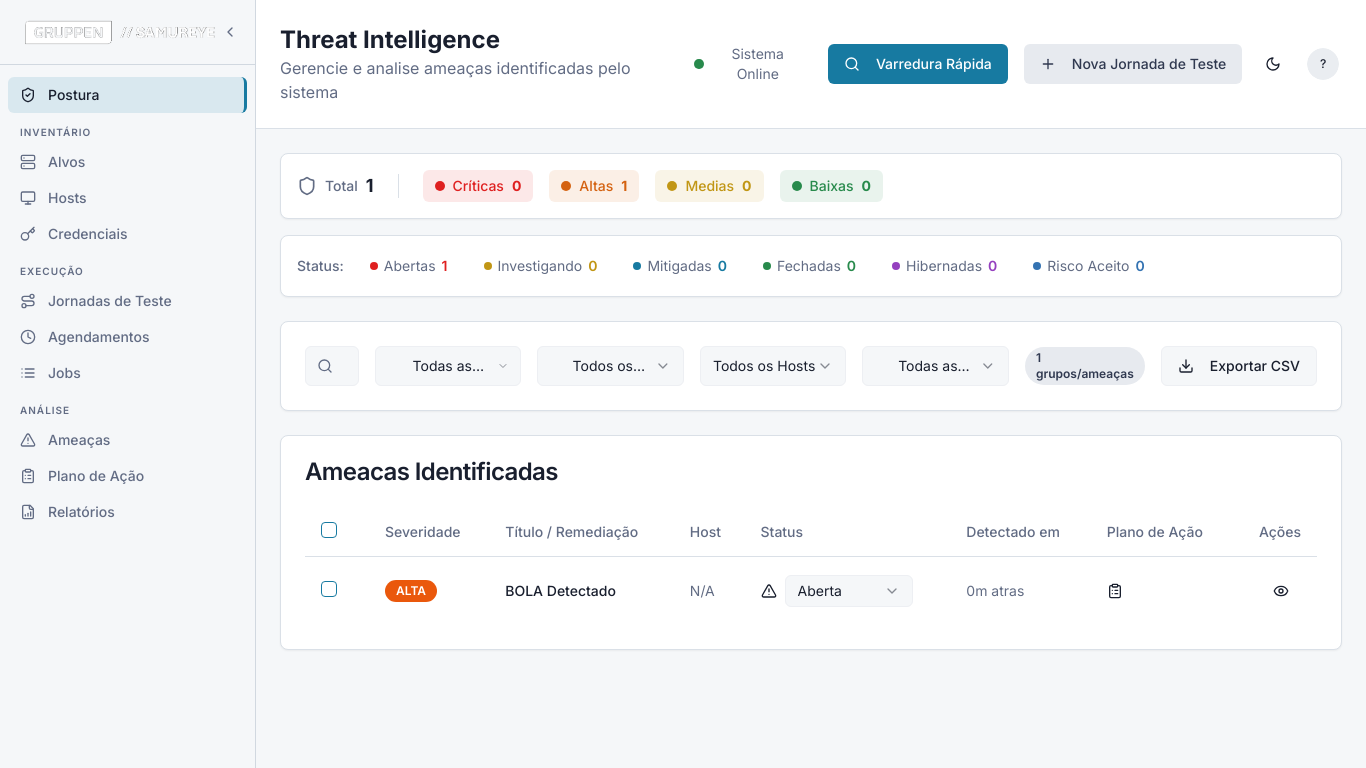
UI-04 — Curl Reproduction Dialog › Dialog renders fallback message when buildCurlCommand returns null
Click the dropdown with test id "select-source-filter". click: x=936, y=366
box: [862, 346, 1009, 386]
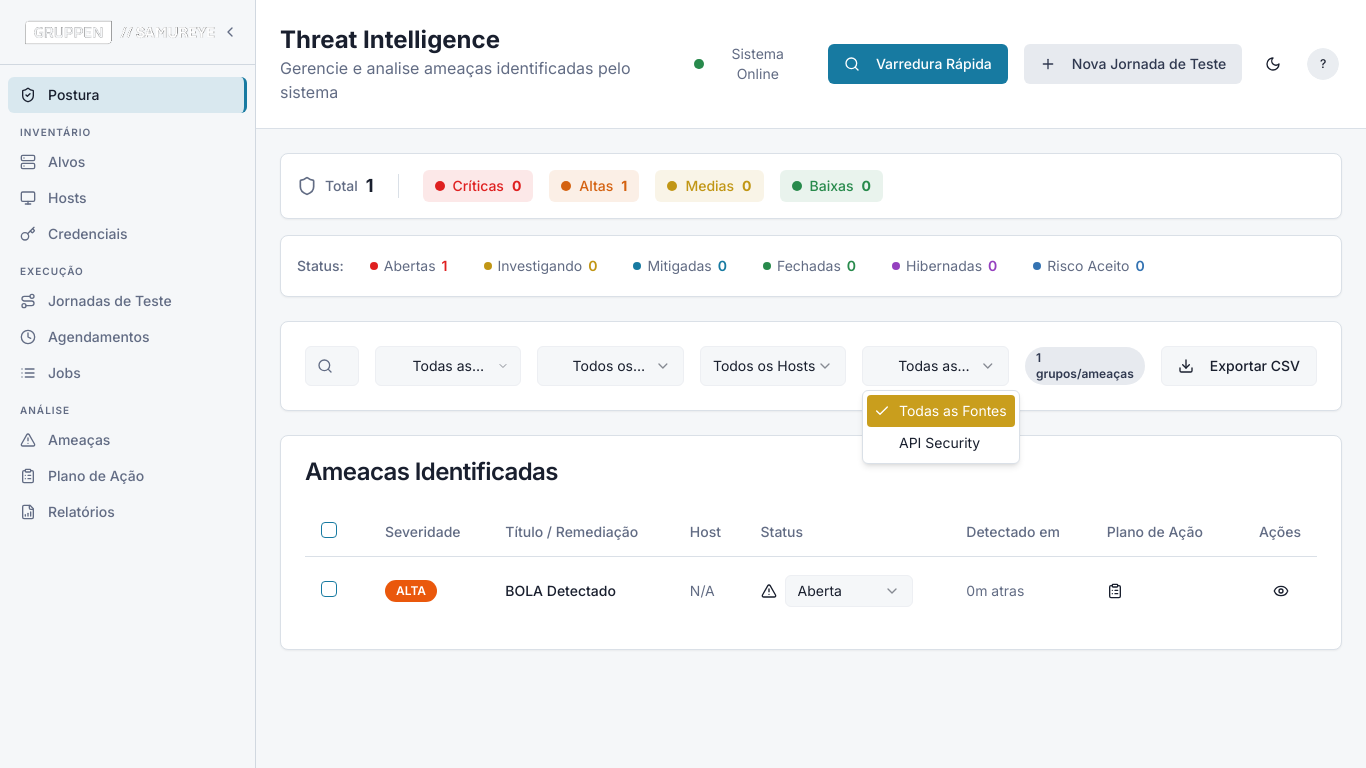
Click the option "API Security". click: x=940, y=442
box: [899, 434, 980, 451]
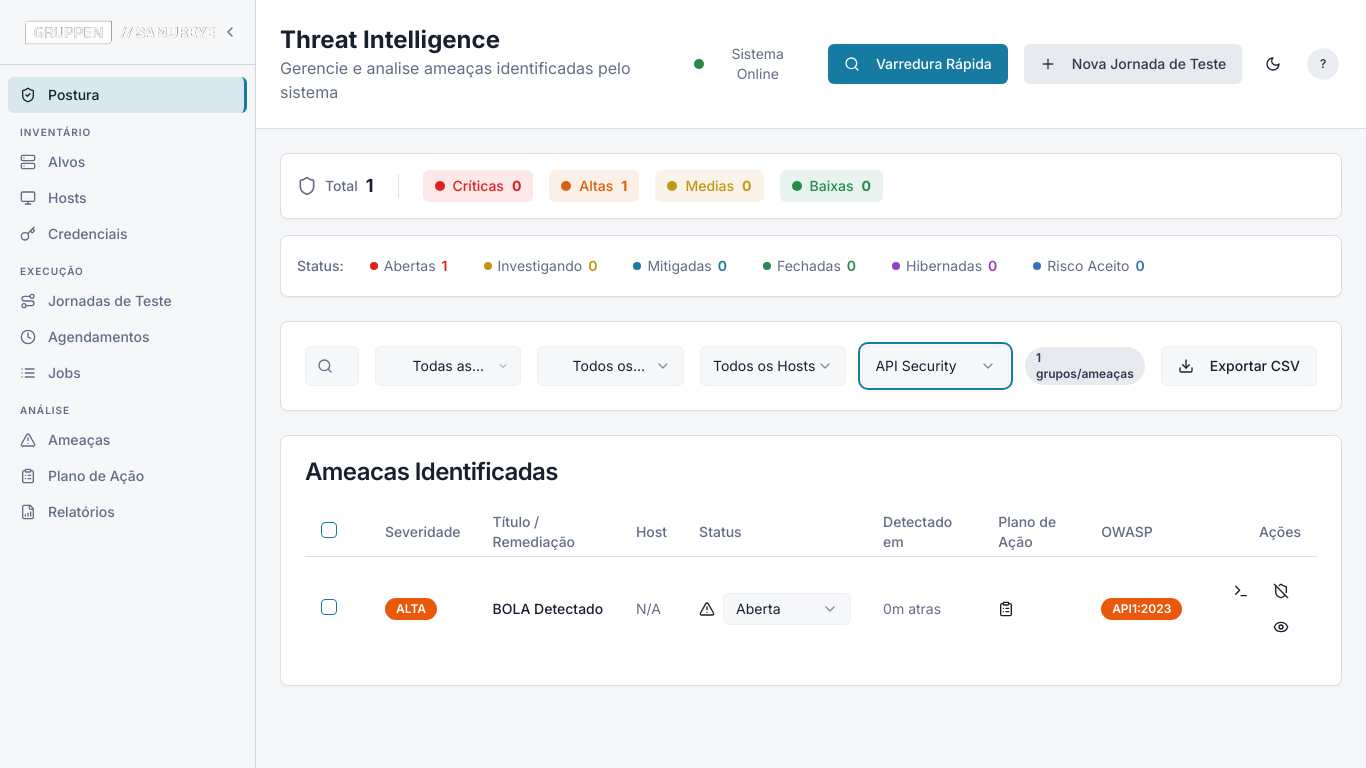
Click the button with test id "button-reproduce-t1". click: x=1241, y=590
box: [1221, 572, 1261, 608]
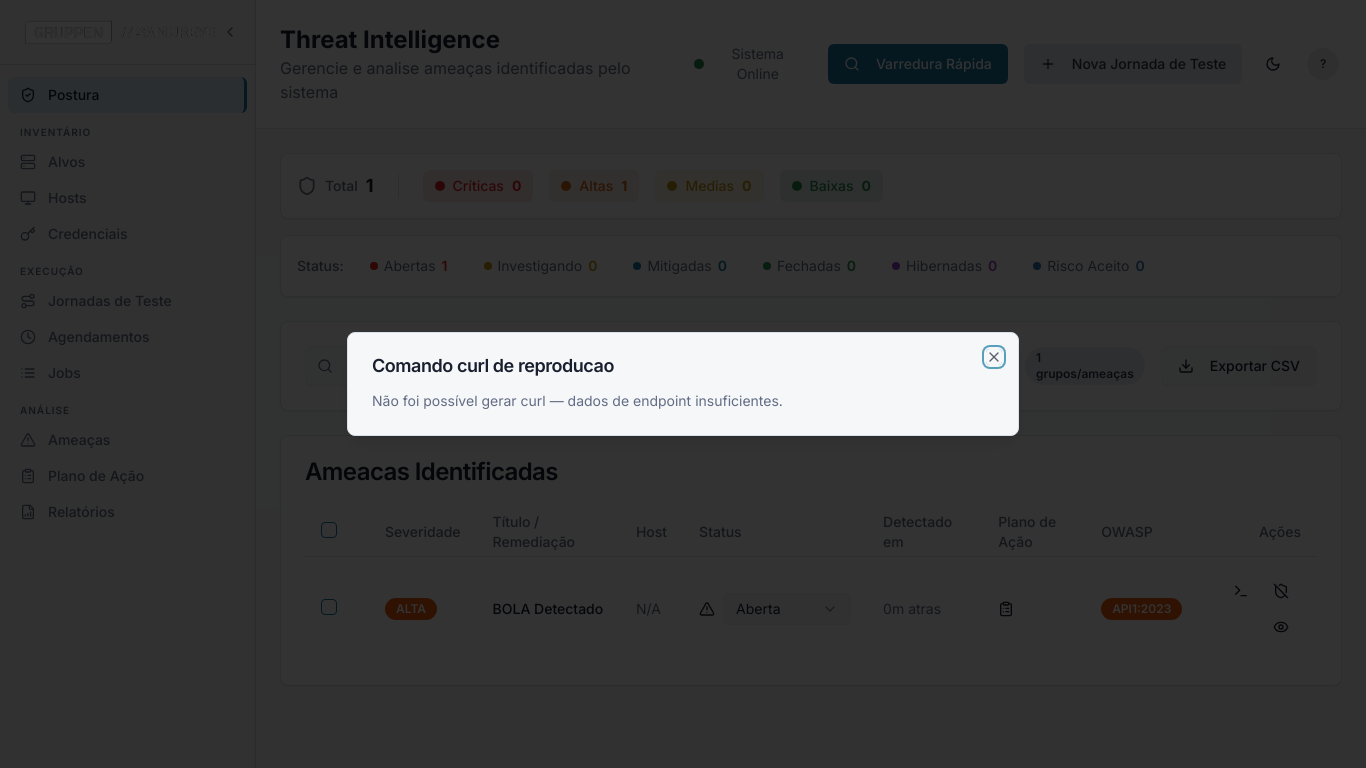
Result: the text with test id "curl-empty" is shown at [372, 392, 783, 409]
